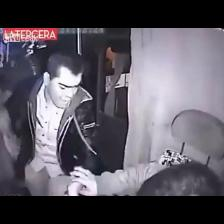person: (5, 53, 102, 195), (137, 162, 221, 195), (137, 163, 221, 195)
